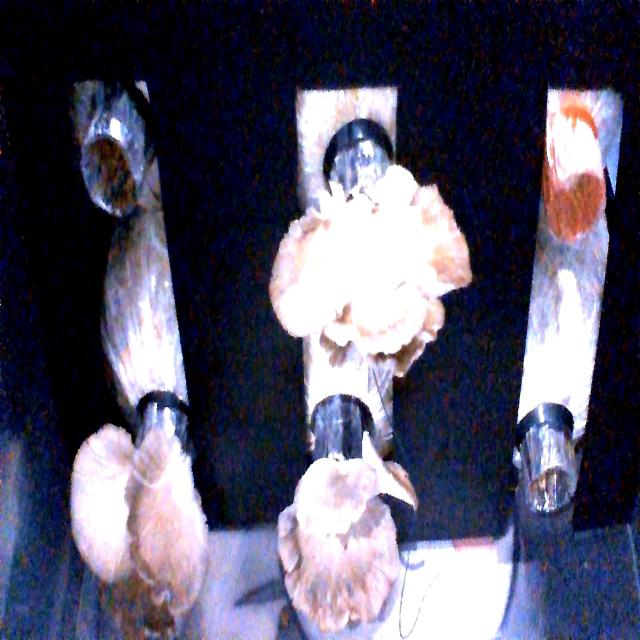big: (271, 180, 464, 349), (71, 431, 209, 605), (280, 472, 412, 622)
nfound: (544, 162, 608, 252), (81, 134, 138, 212), (524, 452, 575, 514)
